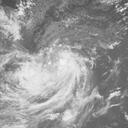cyclone: (17, 48, 85, 105)
